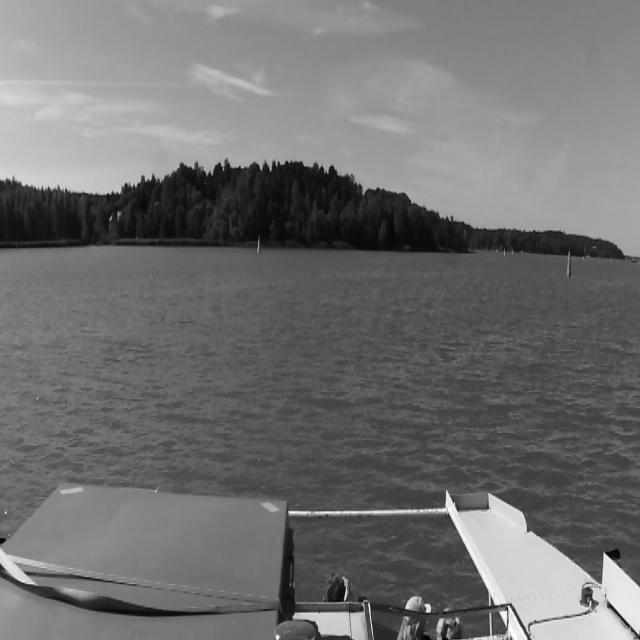buoy: (566, 252, 574, 279), (255, 236, 263, 256)
